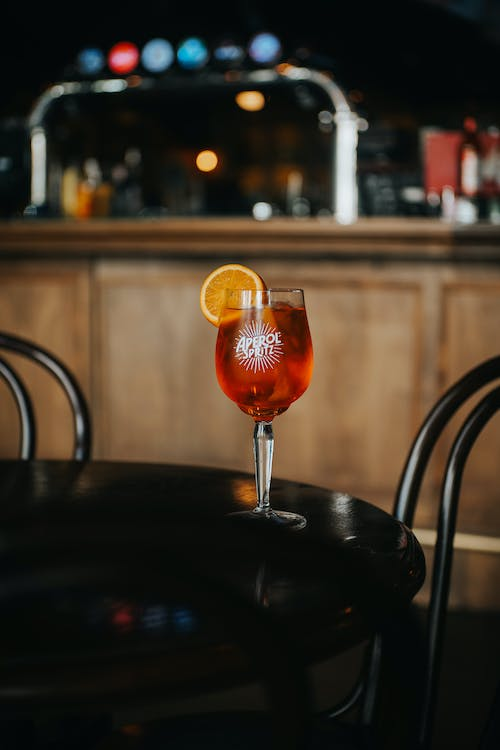alcohol: (212, 286, 316, 535)
